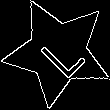L_NW: (29, 23, 87, 81)
